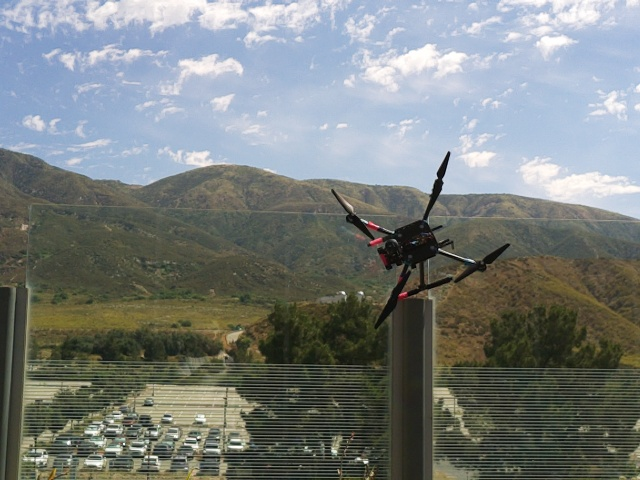quadcopter: (334, 145, 526, 337)
